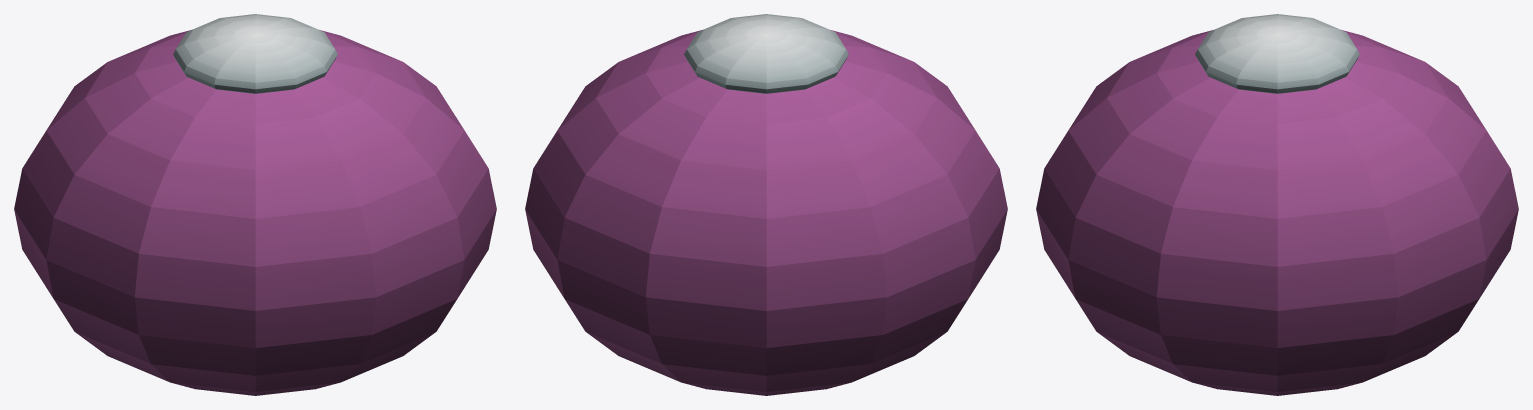
File: spewtumHeadClosed.fbx
The picture shows the model from 3 angles, left to right: view 1: azimuth 30°, elevation 25°; view 2: azimuth 150°, elevation 25°; view 3: azimuth 270°, elevation 25°; orthographic projection.
Parts seen in each view (by area): view 1: polySurface7; view 2: polySurface7; view 3: polySurface7.
Boxes of the visible parts, x1,y1,x2,y2 form: polySurface7: (14,14,496,395); polySurface7: (525,14,1007,395); polySurface7: (1036,14,1518,395).
Bounding box in the file's own units: 2 × 1.52 × 2.
Materials: 1 (1 with a texture image).
